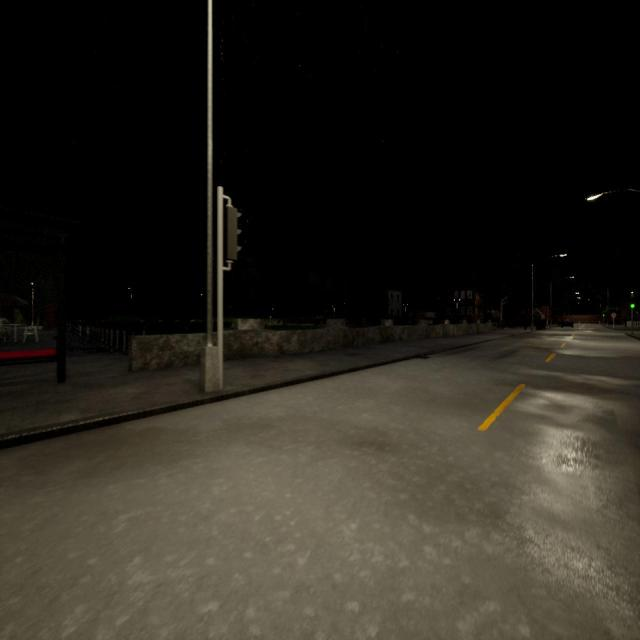Traffic_Signs: (611, 313, 616, 318)
Vehicle: (560, 319, 574, 328)
traffic_light: (223, 205, 242, 262), (630, 297, 635, 309), (602, 313, 604, 317)
